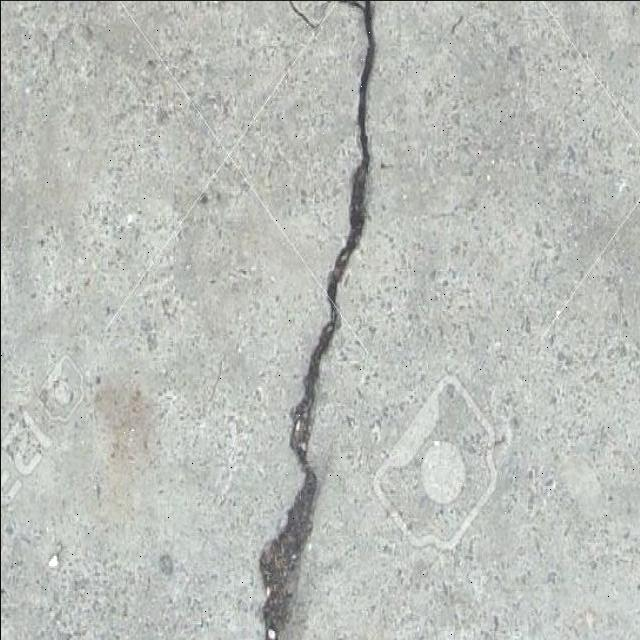crack: (253, 0, 378, 639), (339, 2, 377, 272)
